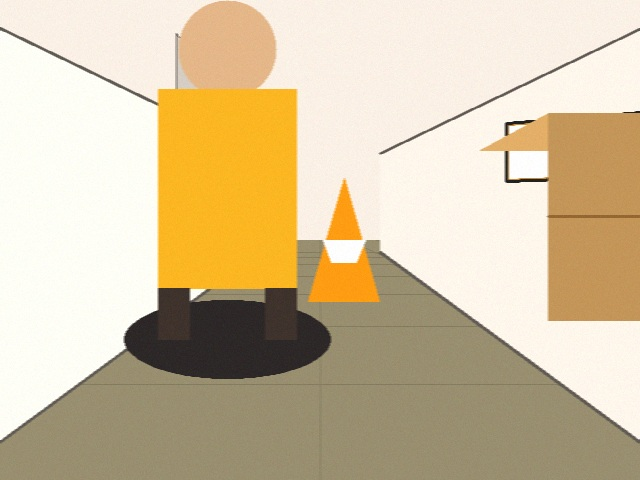box: (480, 113, 639, 320)
directional_sign: (506, 112, 639, 181)
obstacle: (308, 178, 379, 301)
person: (128, 0, 326, 339)
